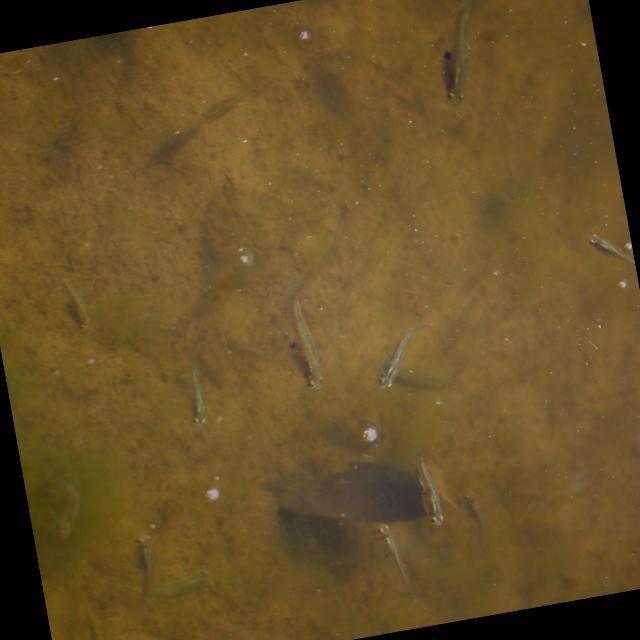Sivrisinek Baligi: (410, 0, 501, 114), (270, 276, 340, 396), (356, 509, 433, 614), (360, 316, 439, 396), (402, 441, 458, 542), (188, 79, 270, 128), (43, 474, 97, 546), (44, 263, 102, 330), (170, 356, 219, 432), (586, 211, 637, 281), (122, 524, 164, 604), (628, 508, 640, 588)
